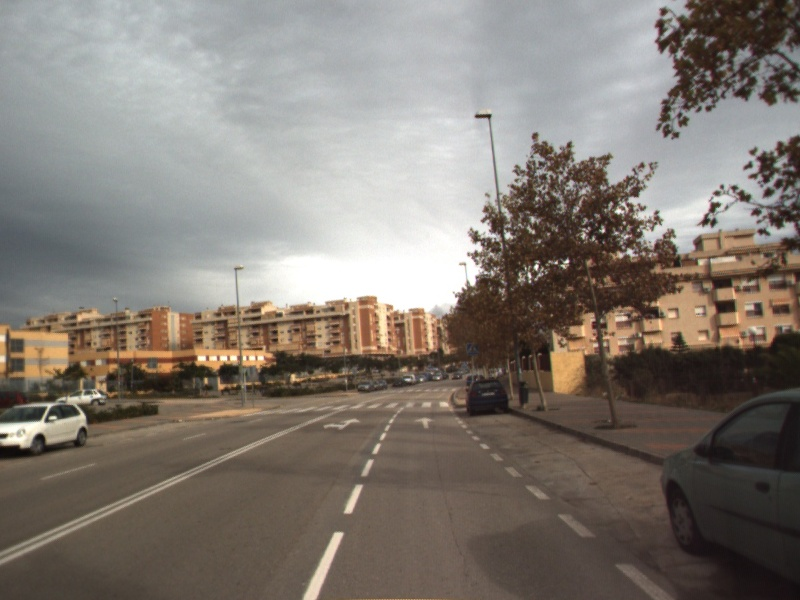STRAIGHT: (412, 414, 437, 430)
STRAIGHT_LEFT: (321, 416, 362, 432)
